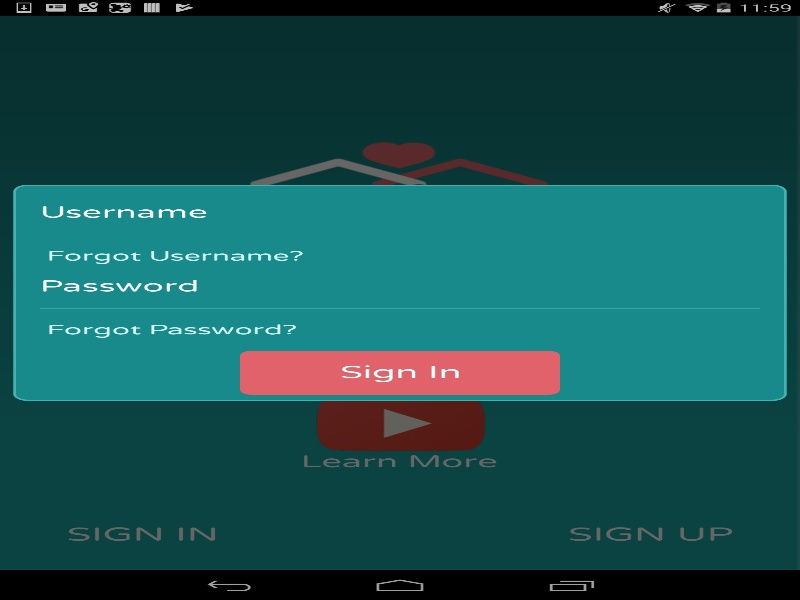Button: (240, 350, 560, 394)
Input: (40, 190, 760, 234), (40, 264, 760, 308)
